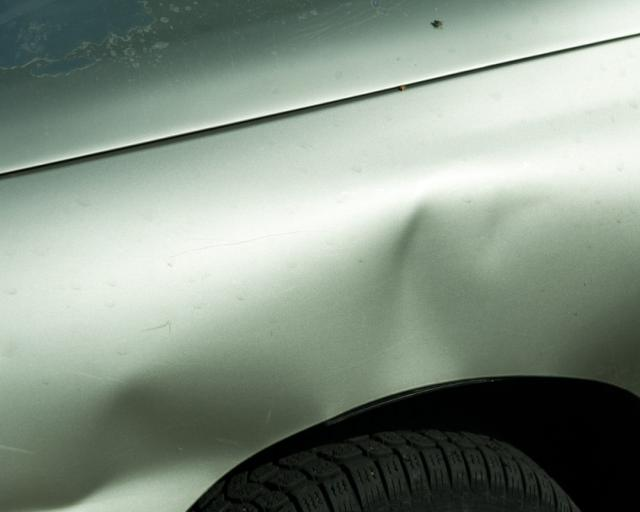dent: (0, 182, 563, 512)
